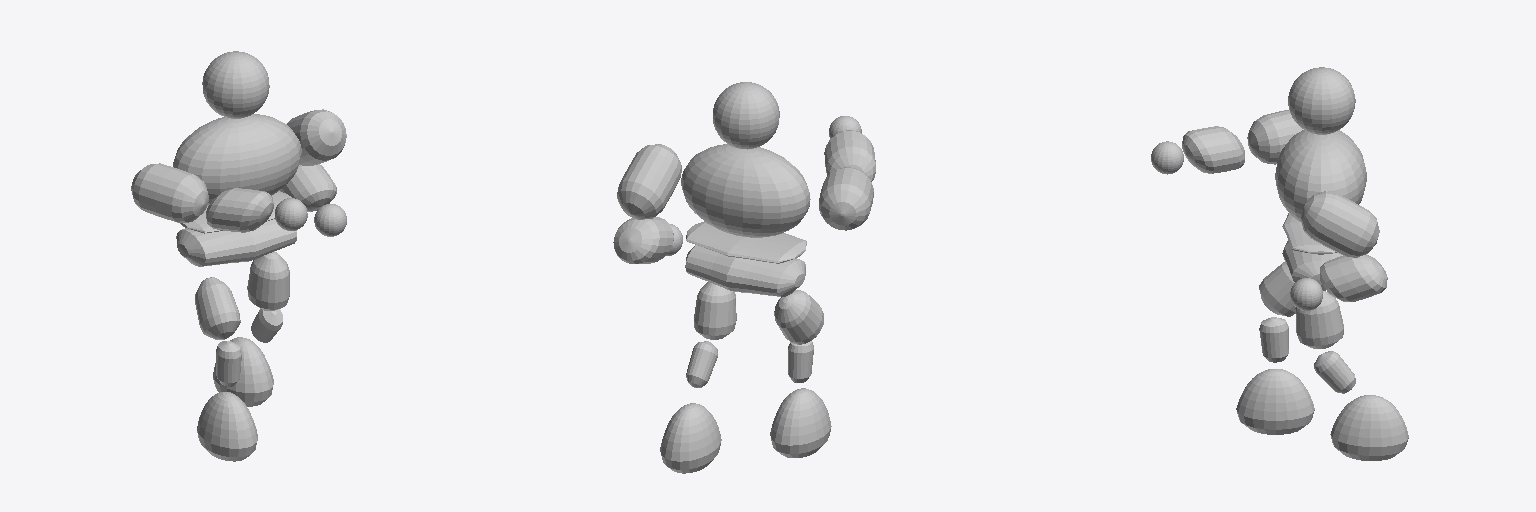
Rendered from PTwoPunch3.obj.
3 views of the same model, side by side, from view 1: azimuth 30°, elevation 25°; view 2: azimuth 150°, elevation 25°; view 3: azimuth 270°, elevation 25° (orthographic).
Size of the model in its own units: 4.04 by 6.49 by 4.08.